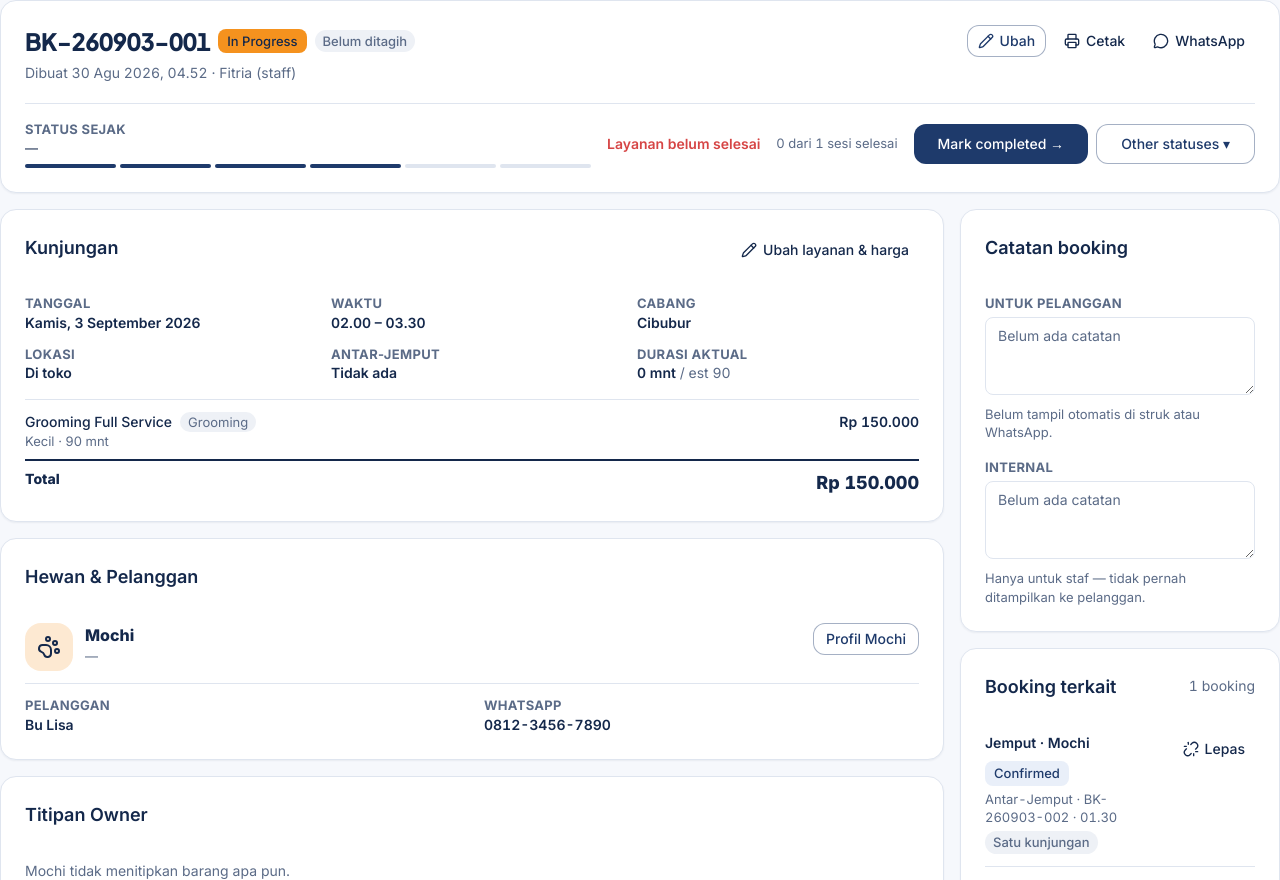
Test: BookingDetailScreen — the rail and the cards beside the work › lets a booking of the visit go, and re-reads this one
Expected: the text "Jemput · Mochi" is shown, [985,733,1090,753]
What coordinates should you click on to do the following:
click the button with aria-label "lepas BK-260903-002 dari kunjungan ini"
I would click on:
 (1214, 749)
Its box is [1173,733,1255,765].
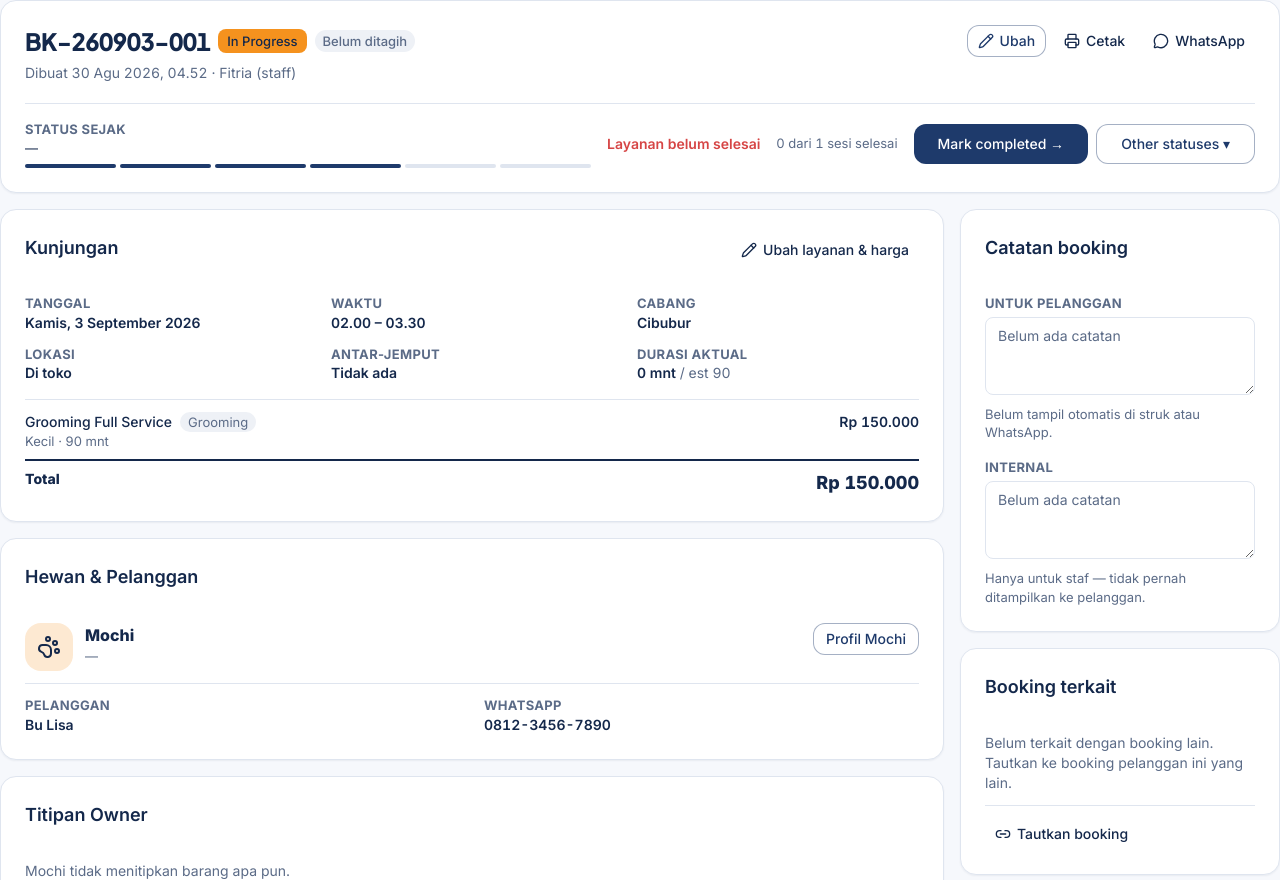
Expected: the link "Jemput · Mochi" is gone
